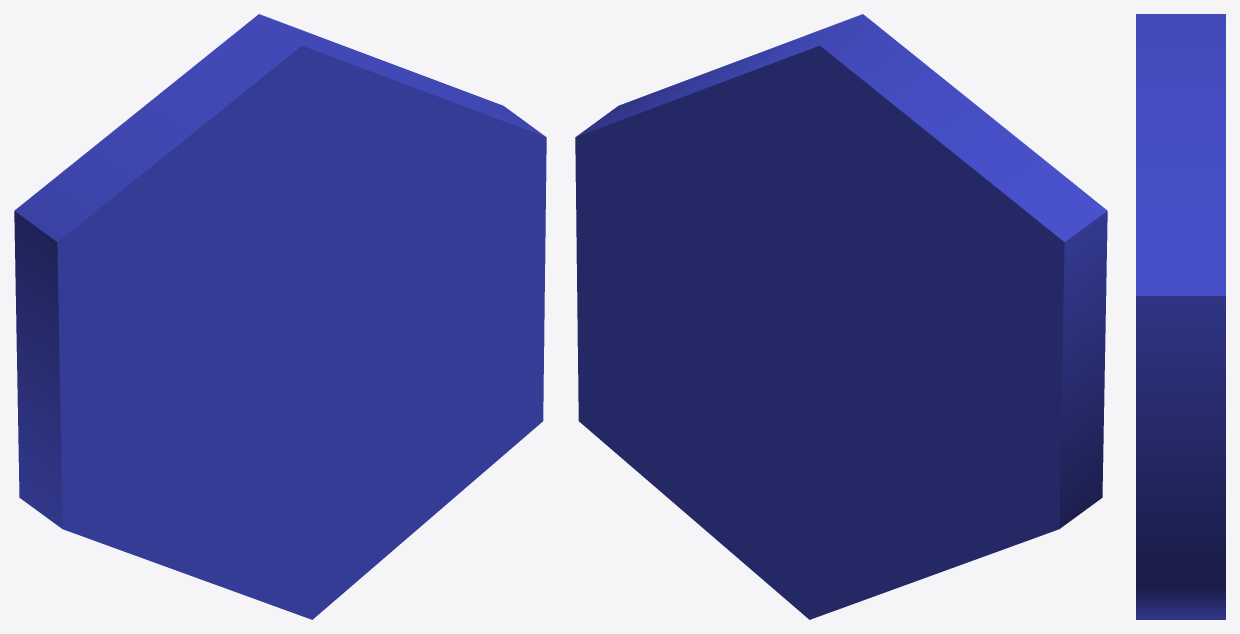
The model's file is hexagon_v2.fbx.
3 renders of one model, left to right at view 1: azimuth 30°, elevation 25°; view 2: azimuth 150°, elevation 25°; view 3: azimuth 270°, elevation 25°, orthographic. The views are drawn at different scales.
Parts seen in each view (by area): view 1: root; view 2: root; view 3: root.
Boxes of the visible parts, x1,y1,x2,y2 form: root: [14, 14, 546, 619]; root: [575, 14, 1107, 619]; root: [1136, 14, 1225, 619].
Size of the model in its own units: 0.6554 by 0.7385 by 0.1.
